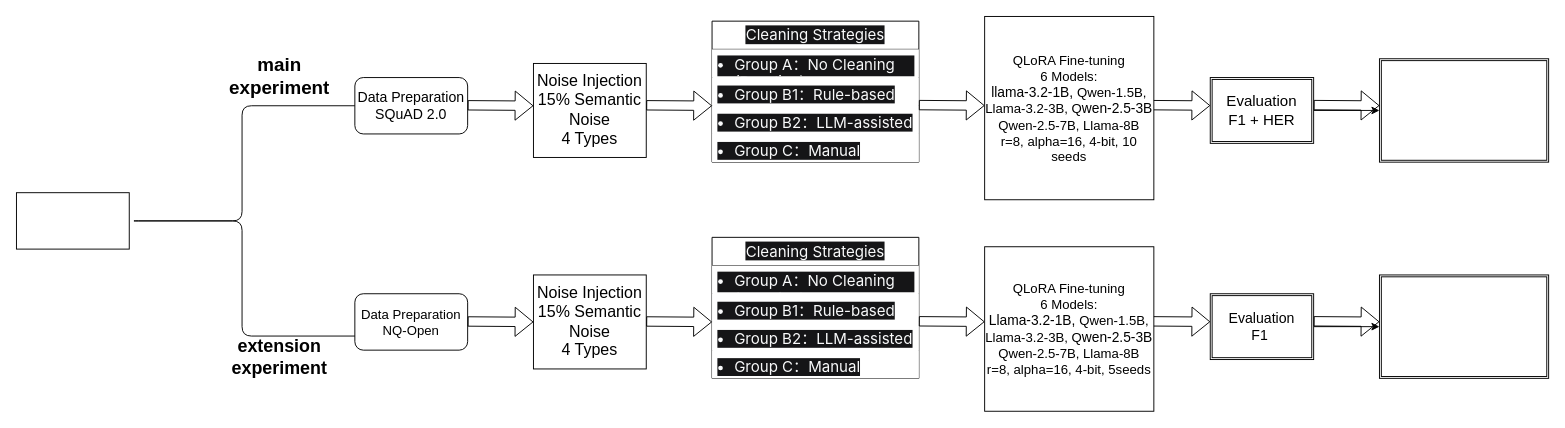
This 1565x428 diagram has some shape labels left out. Here are the shapes that lost their labels. From the top down, the centre of each, then its label:
(x=1464, y=110): Output Tables(1,3) & Figures(1a,1b,2,3a,3b,4 ) Decision Rules
(x=72, y=220): experimental procedure
(x=1464, y=326): Output Tables(2,4) & Figures(1c )
